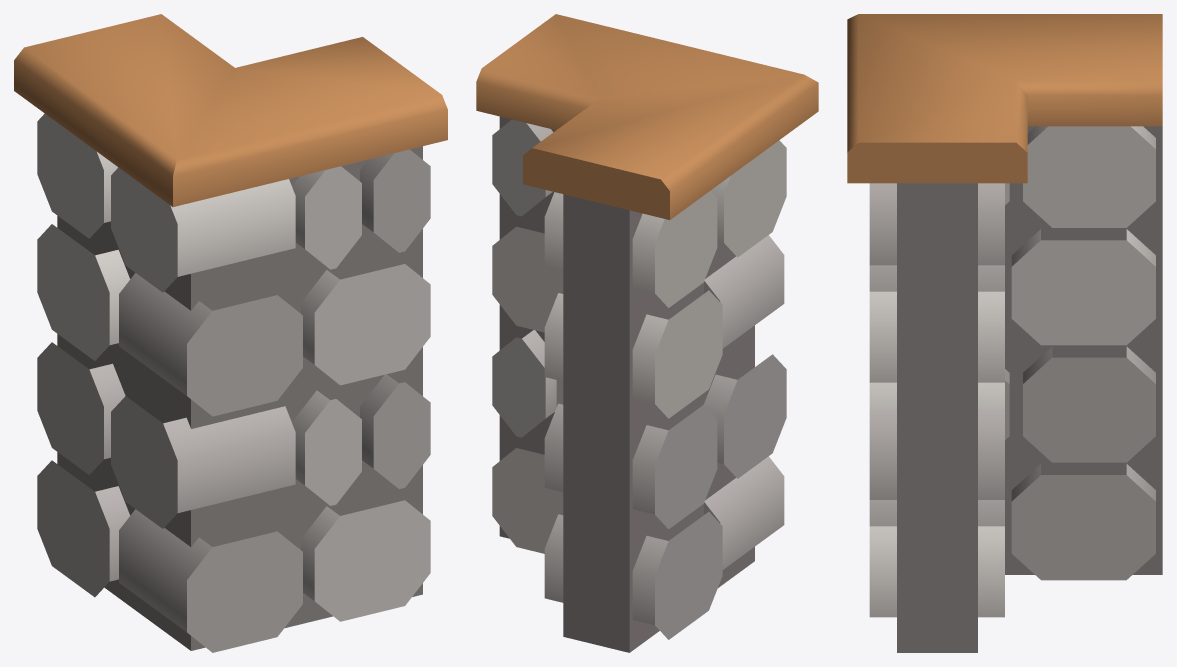
File: zoo_wall_corner.glb
3 views of the same model, side by side, from view 1: azimuth 30°, elevation 25°; view 2: azimuth 150°, elevation 25°; view 3: azimuth 270°, elevation 25° (orthographic). The views are drawn at different scales.
Parts seen in each view (by area): view 1: zoo_wall_corner; view 2: zoo_wall_corner; view 3: zoo_wall_corner.
Boxes of the visible parts, left/top/right/bottom form: zoo_wall_corner: left=14, top=14, right=447, bottom=652; zoo_wall_corner: left=476, top=14, right=818, bottom=652; zoo_wall_corner: left=847, top=14, right=1162, bottom=652.
Size of the model in its own units: 1.4 by 2.5 by 1.4.
Materials: 1 (1 with a texture image).
